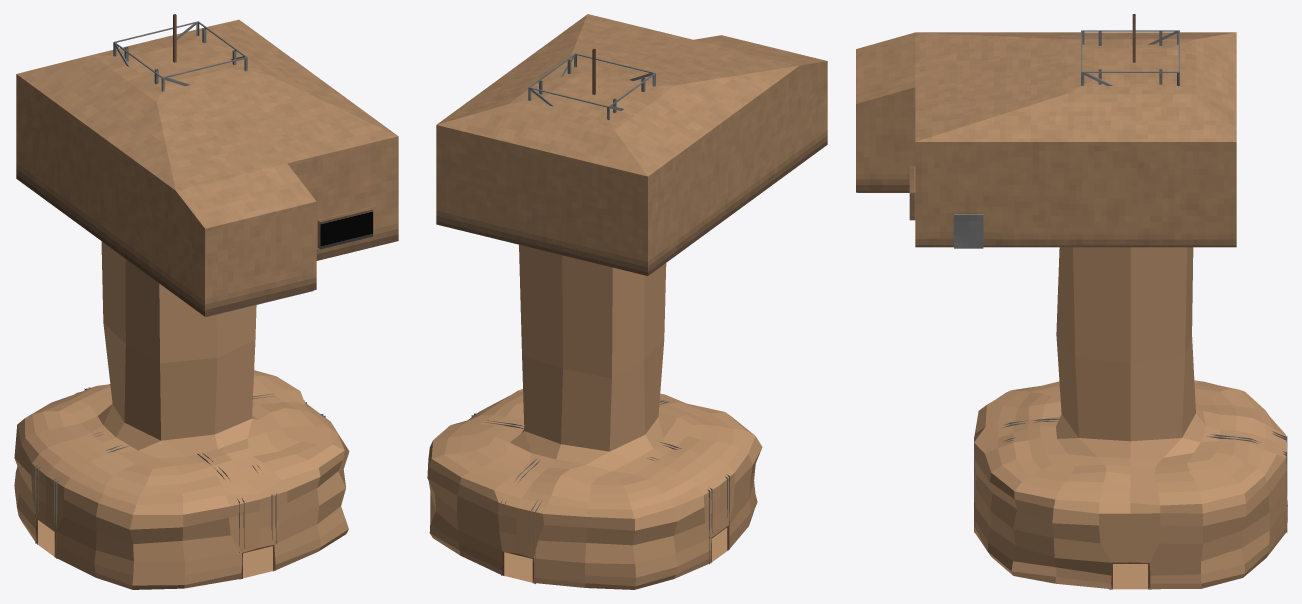
Rendered from SM_StartingZone.fbx.
The picture shows the model from 3 angles, left to right: view 1: azimuth 30°, elevation 25°; view 2: azimuth 150°, elevation 25°; view 3: azimuth 270°, elevation 25°; orthographic projection. The views are drawn at different scales.
Visible parts, largest first — view 1: Safezone, Cave, Girders.004, Supports; view 2: Cave, Safezone, Girders.004, Supports; view 3: Safezone, Cave, Girders.004, Supports.
Boxes of the visible parts, box(x1,y1,x2,y2) form: Safezone: box(16, 19, 398, 316); Cave: box(14, 241, 349, 589); Girders.004: box(113, 21, 247, 91); Supports: box(35, 387, 325, 548); Cave: box(427, 244, 762, 589); Safezone: box(436, 14, 827, 275); Girders.004: box(528, 53, 655, 119); Supports: box(471, 400, 729, 555); Safezone: box(856, 32, 1236, 248); Cave: box(974, 247, 1287, 589); Girders.004: box(1081, 30, 1179, 85); Supports: box(974, 418, 1287, 502).
Bounding box in the file's own units: 3026 × 5393 × 4136.
